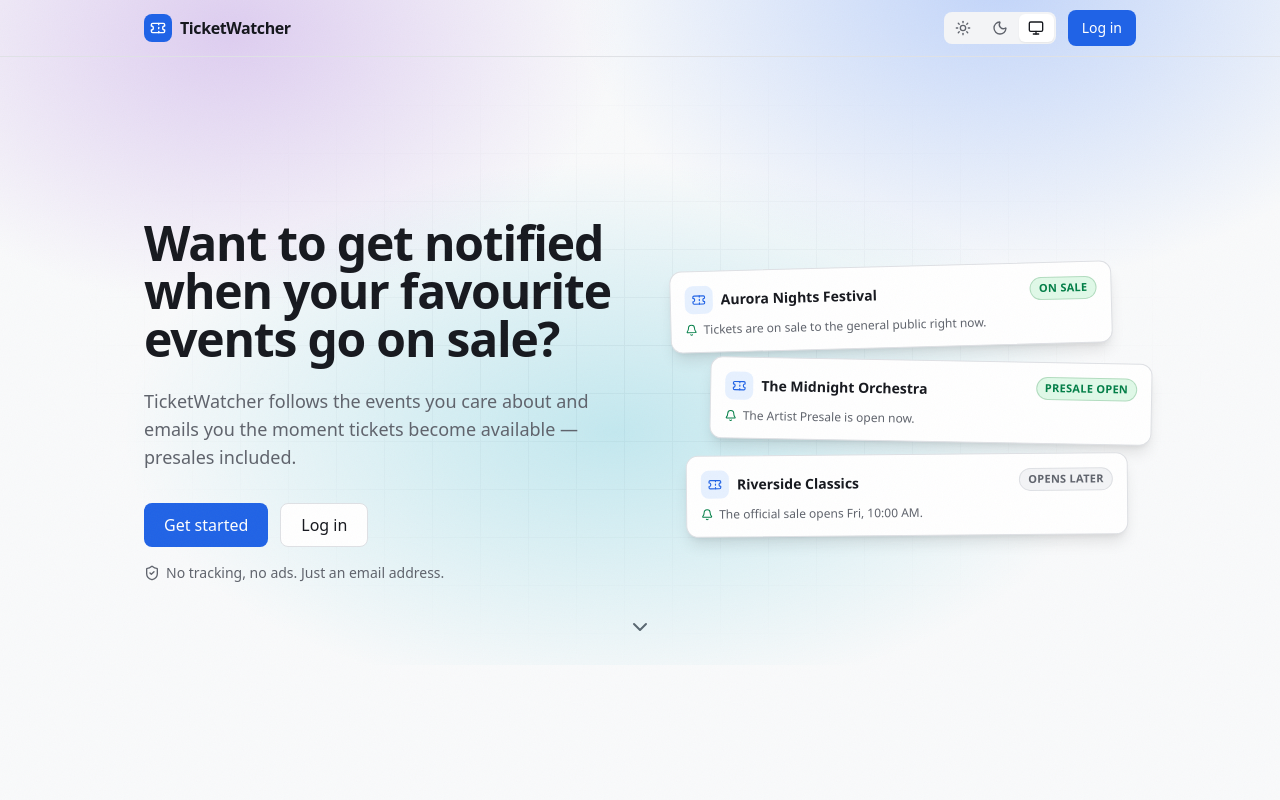
Test case: App — the logged-out landing page › keeps the login form behind a button rather than showing it immediately
The image size is (1280, 800).
Click the 1st button "Log in" at x=1102, y=28, box 1068,10 -> 1136,46
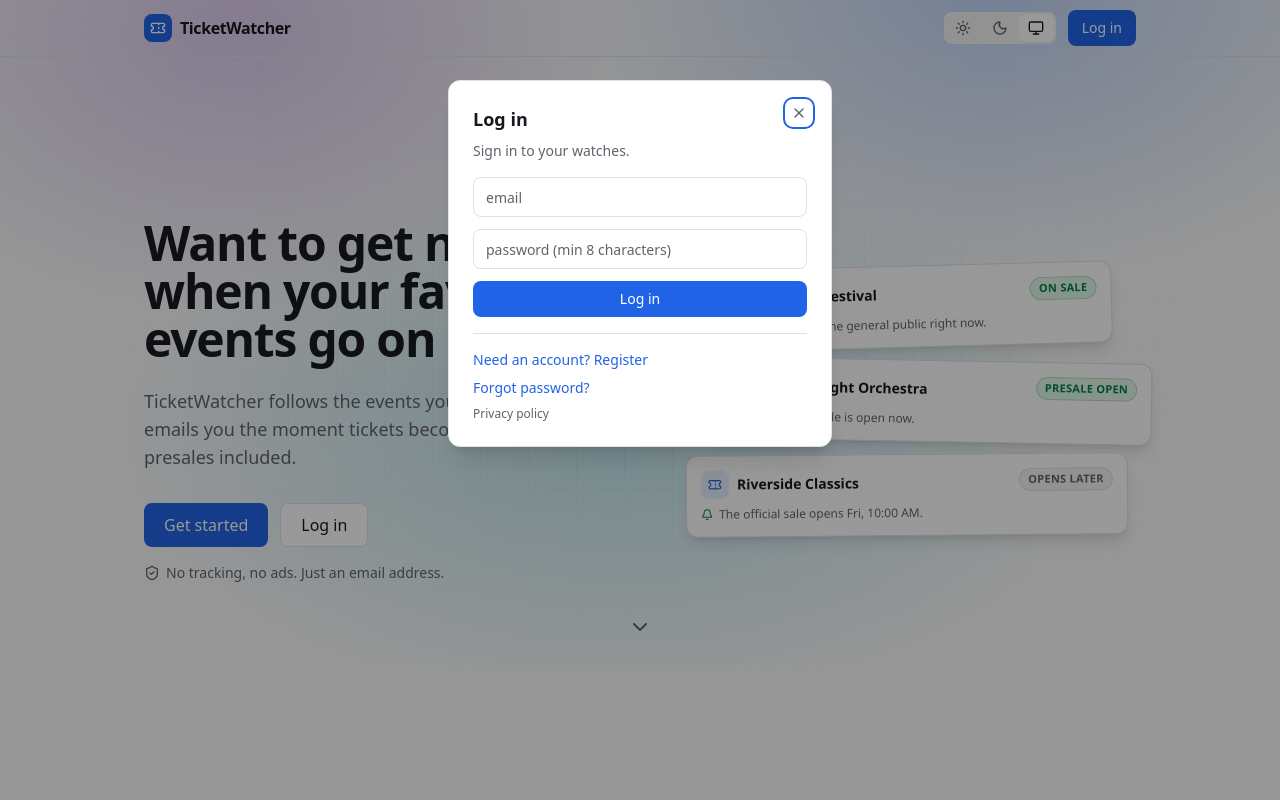
Expected: the dialog is shown, 448,80 -> 832,447
Expected: the field with placeholder "email" is shown, 473,177 -> 807,217
